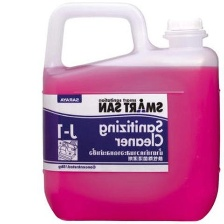cleaning_solution: (39, 0, 222, 223)
